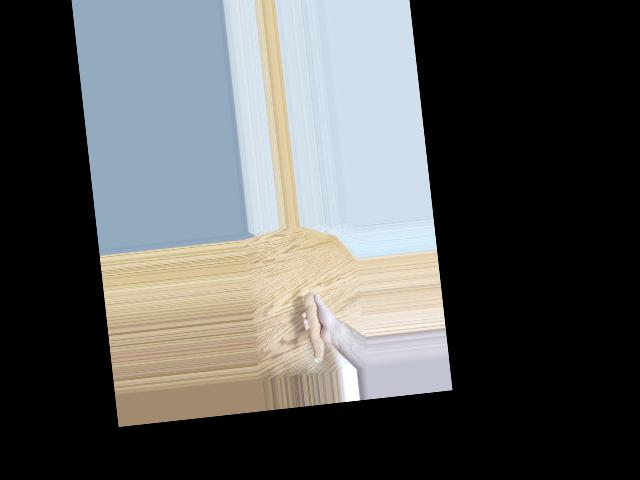sweet_potato: (299, 285, 330, 364)
